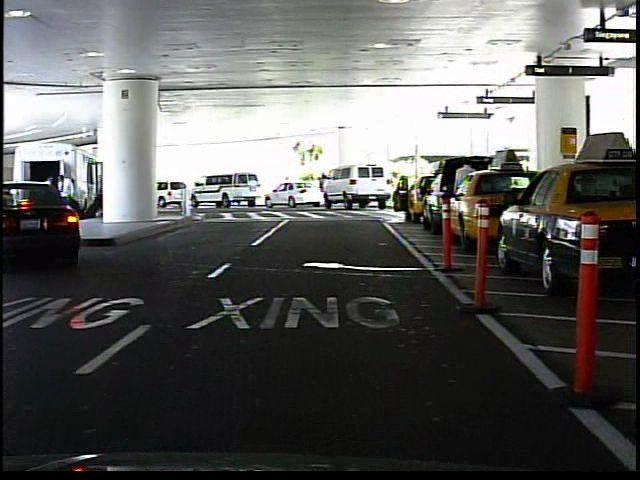person: (451, 155, 480, 234), (277, 172, 293, 204)
